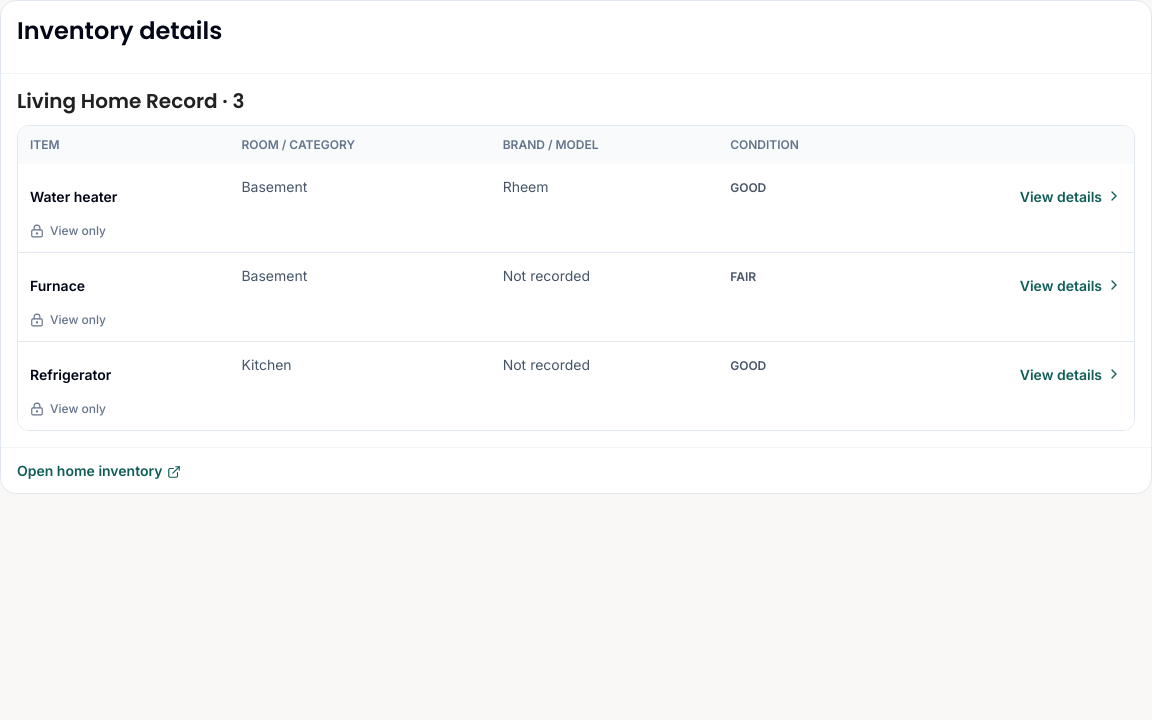
Scenario: deleted item detail is distinct from an access-loss failure
The width and height of the screenshot is (1152, 720).
Click the button "Water heater": [74, 196] box [30,176,117,216]
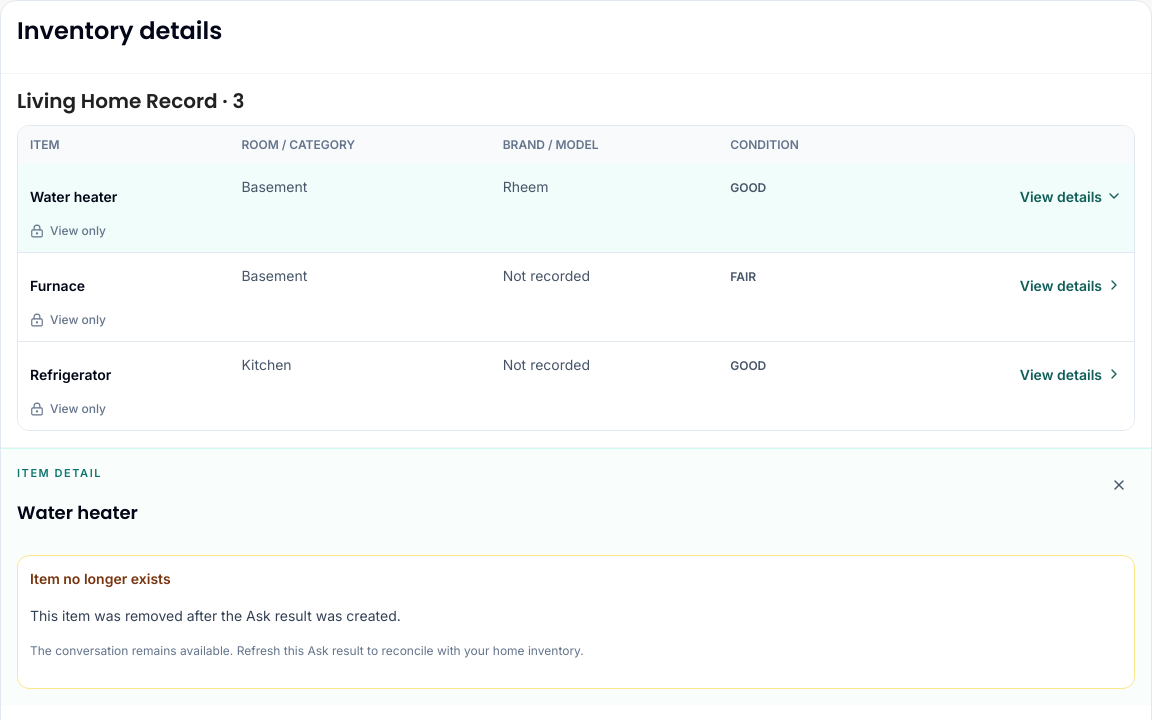
Expected: the message shows "Item no longer exists", [30,570,171,587]
